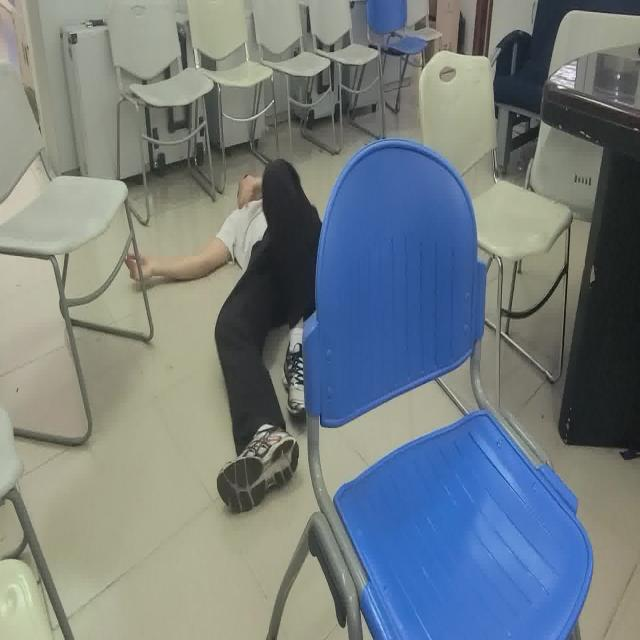Fall-Detected: (123, 164, 336, 516)
